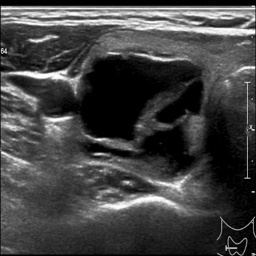mass: (74, 51, 203, 171)
